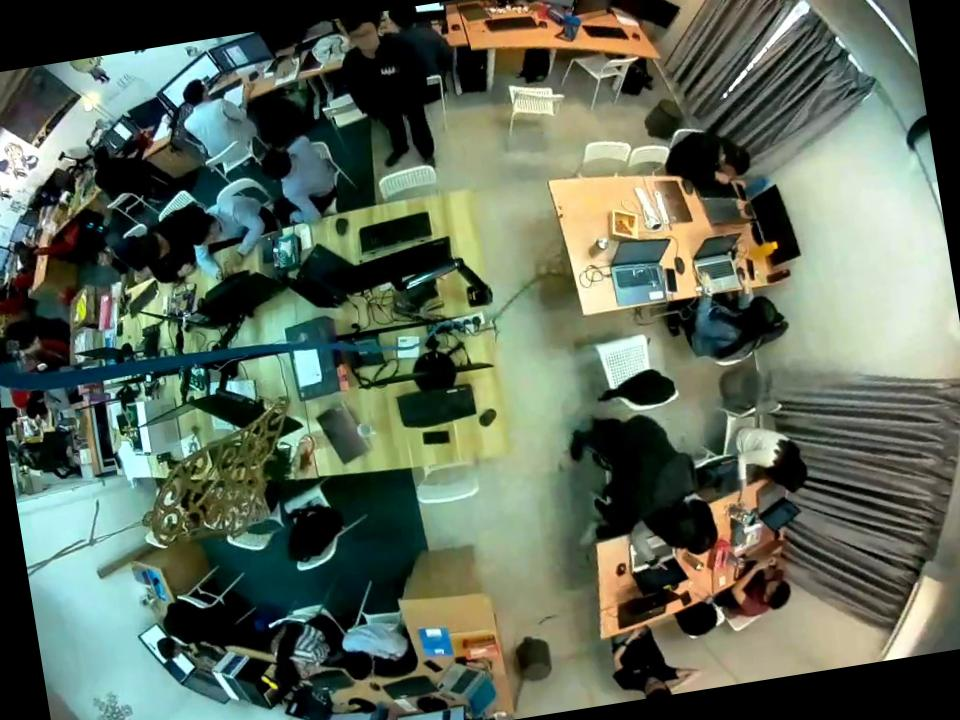employee_tag: (379, 63, 398, 78)
